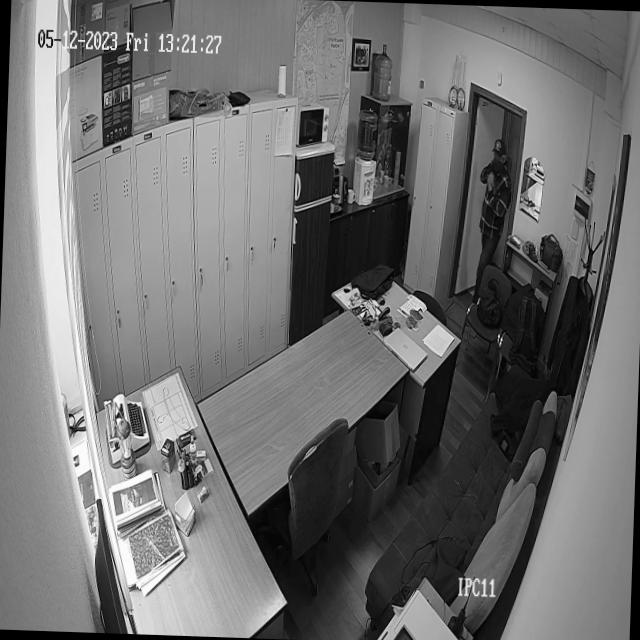gun: (491, 163, 501, 196)
person with a gun: (473, 138, 512, 307)
